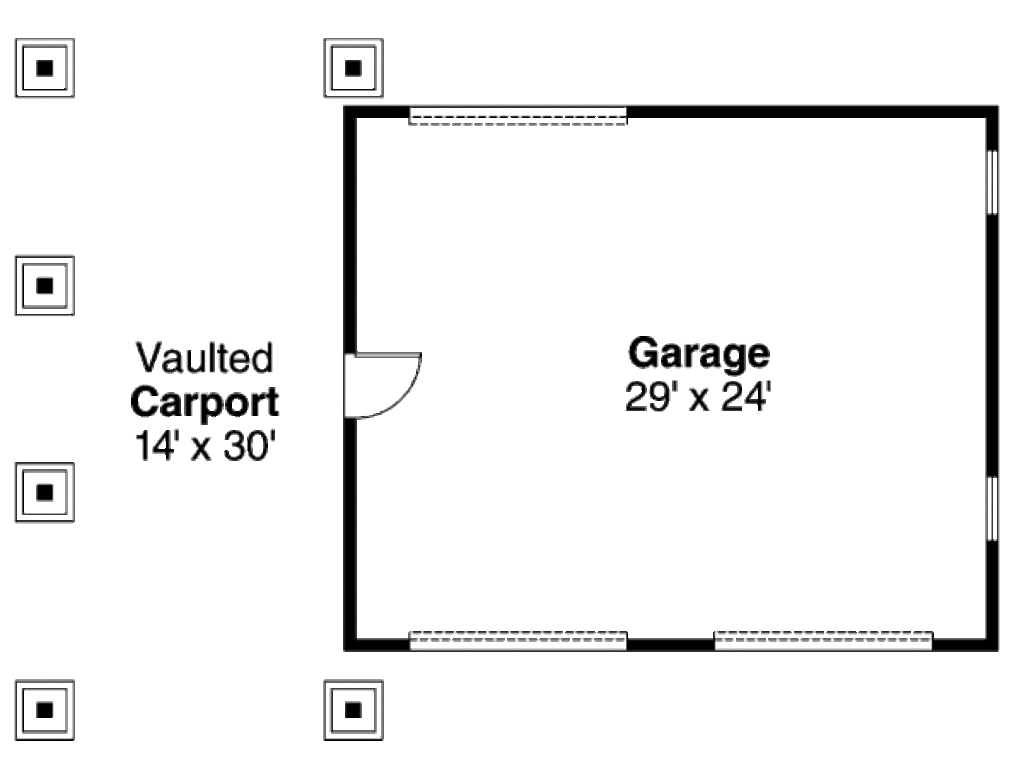door: (340, 344, 440, 425)
window: (979, 477, 1012, 543), (975, 151, 1001, 215)
